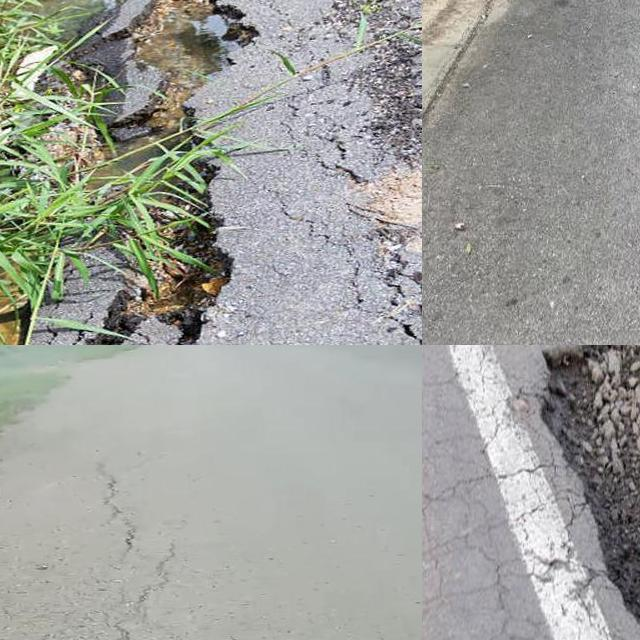Pinggir: (111, 0, 278, 345), (536, 345, 640, 640)
